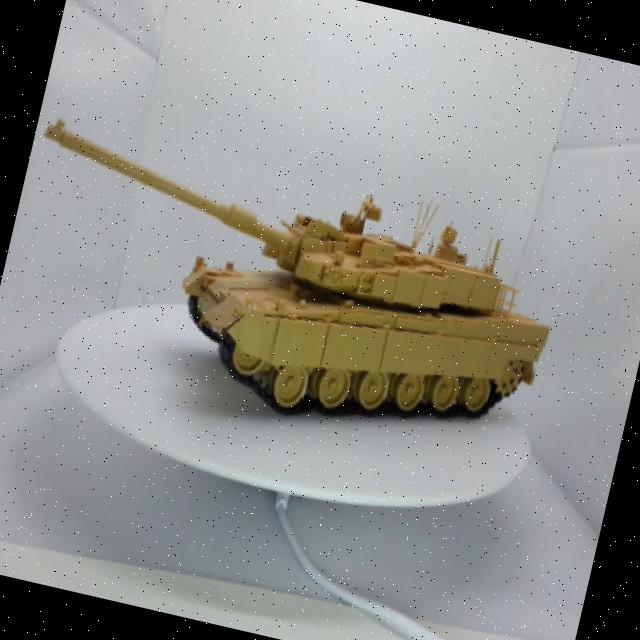korea tank: (0, 101, 610, 486)
